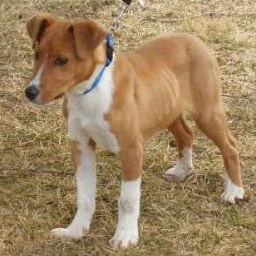dog: (24, 14, 247, 237)
